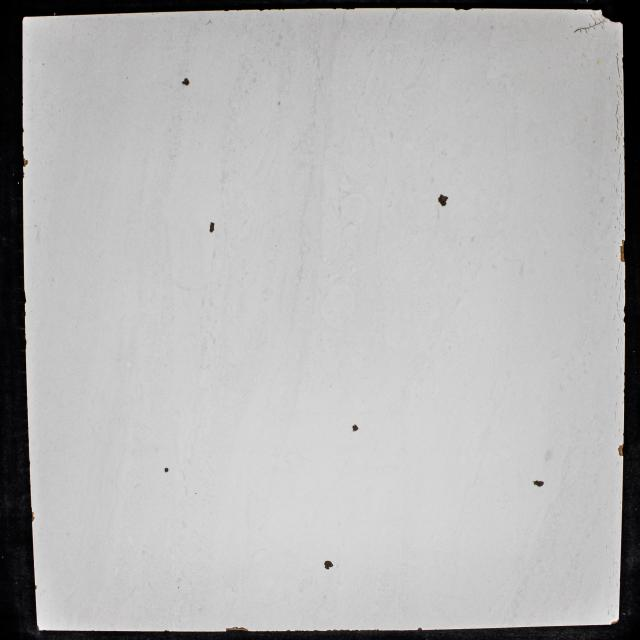edge-chipping: (601, 10, 622, 24), (619, 240, 626, 263), (225, 626, 249, 632), (622, 306, 627, 324), (22, 157, 30, 168), (618, 444, 624, 457), (454, 8, 474, 11), (610, 619, 619, 625), (32, 511, 36, 523), (34, 584, 38, 590), (417, 626, 423, 630), (37, 625, 40, 631)
hole: (437, 194, 449, 207), (323, 560, 334, 570), (208, 220, 216, 233), (532, 480, 545, 488), (181, 78, 191, 86), (351, 424, 359, 432), (163, 467, 170, 474)
line: (573, 14, 600, 35), (615, 57, 620, 74)
